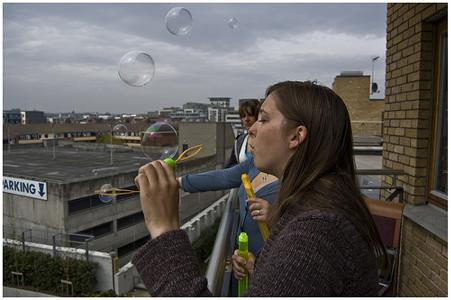person: (125, 80, 386, 296)
